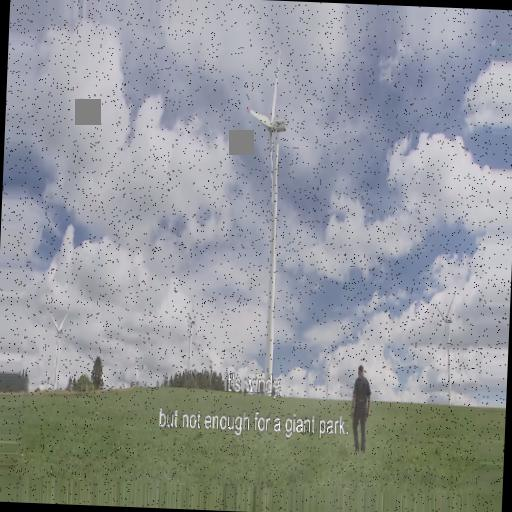wind turbine: (249, 72, 292, 399), (432, 286, 459, 405)
